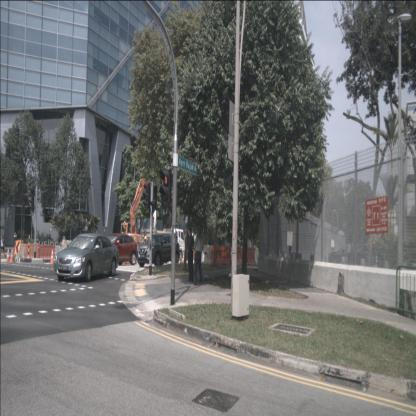human-pedestrian-adult: (194, 228, 204, 286), (187, 228, 194, 284), (0, 235, 6, 258)
movable_object-barrier: (210, 245, 231, 265), (231, 246, 248, 267), (23, 244, 40, 258), (39, 245, 55, 259), (198, 246, 210, 264), (55, 245, 66, 259), (15, 243, 25, 258), (248, 248, 256, 266), (254, 248, 259, 266)
movable_object-trafficcone: (49, 248, 55, 264), (10, 247, 14, 263), (6, 248, 10, 262)
vehicle-car: (54, 234, 119, 282), (136, 233, 180, 267), (99, 233, 138, 266), (328, 244, 367, 267), (352, 244, 376, 264)
vehicle-truck: (141, 228, 185, 261)
